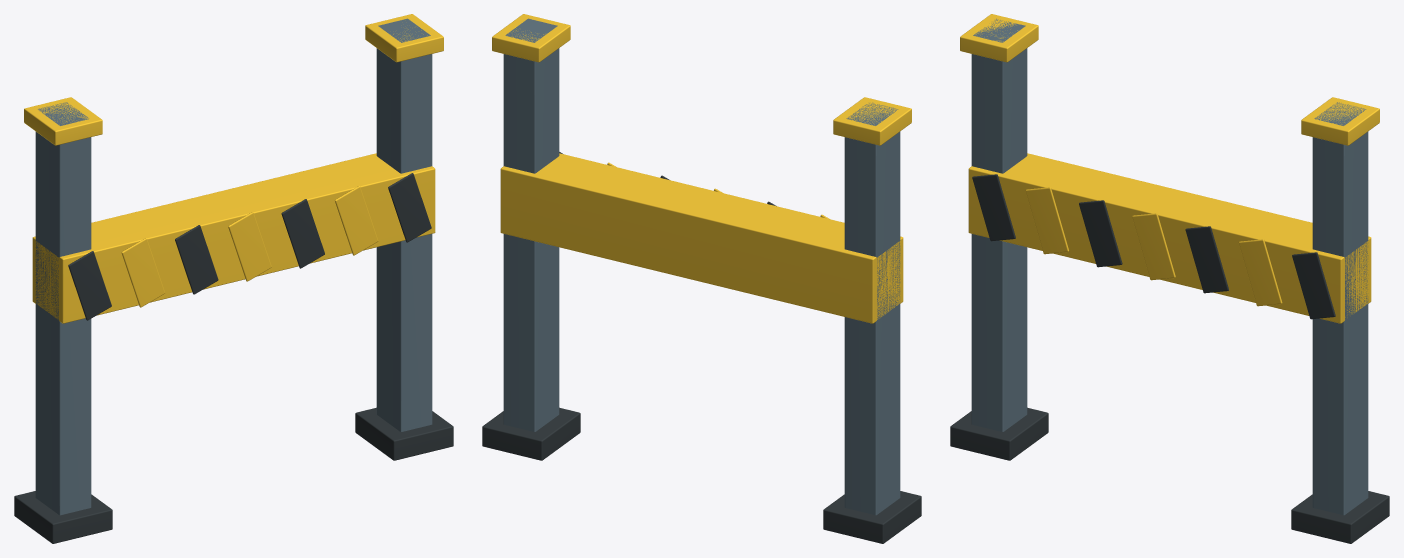
The model's file is high_gate.glb.
3 renders of one model, left to right at view 1: azimuth 30°, elevation 25°; view 2: azimuth 150°, elevation 25°; view 3: azimuth 330°, elevation 25°, orthographic.
Visible parts, largest first — view 1: HighGate; view 2: HighGate; view 3: HighGate.
Boxes of the visible parts, x1,y1,x2,y2 form: HighGate: (14, 14, 453, 543); HighGate: (482, 14, 921, 543); HighGate: (950, 14, 1389, 543).
Bounding box in the file's own units: 2.26 × 2.2 × 0.38.
